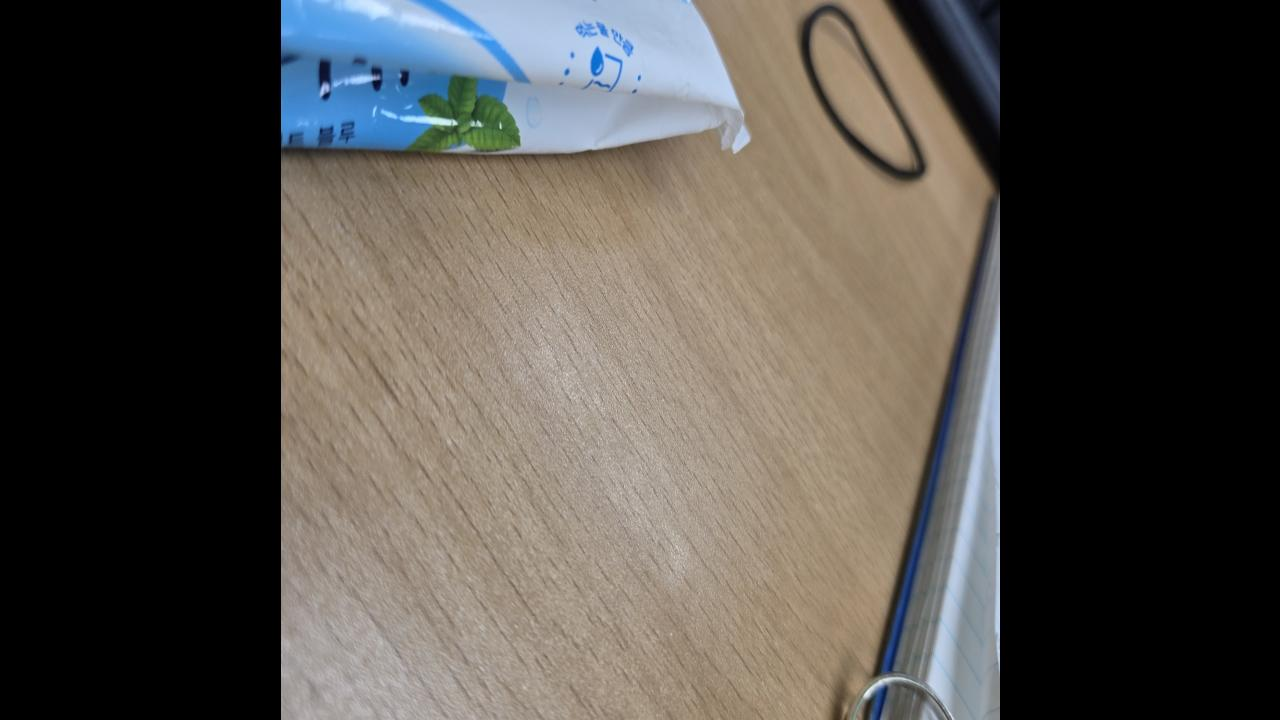ring: (838, 675, 965, 720)
